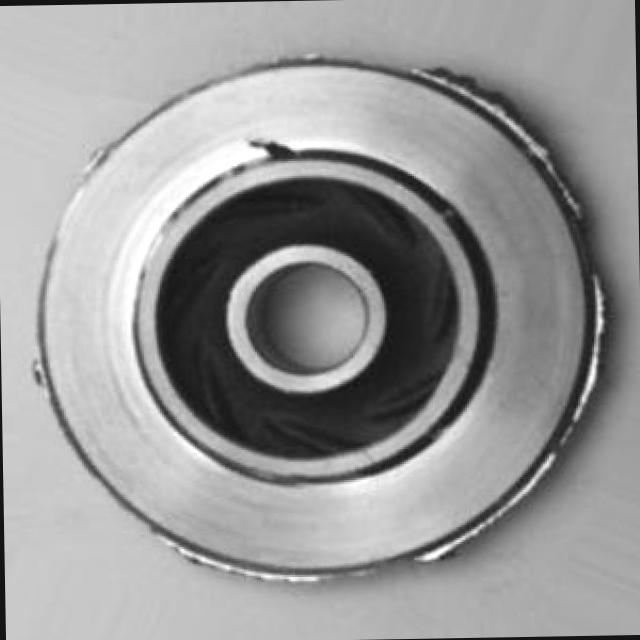Defect: (244, 130, 301, 166)
